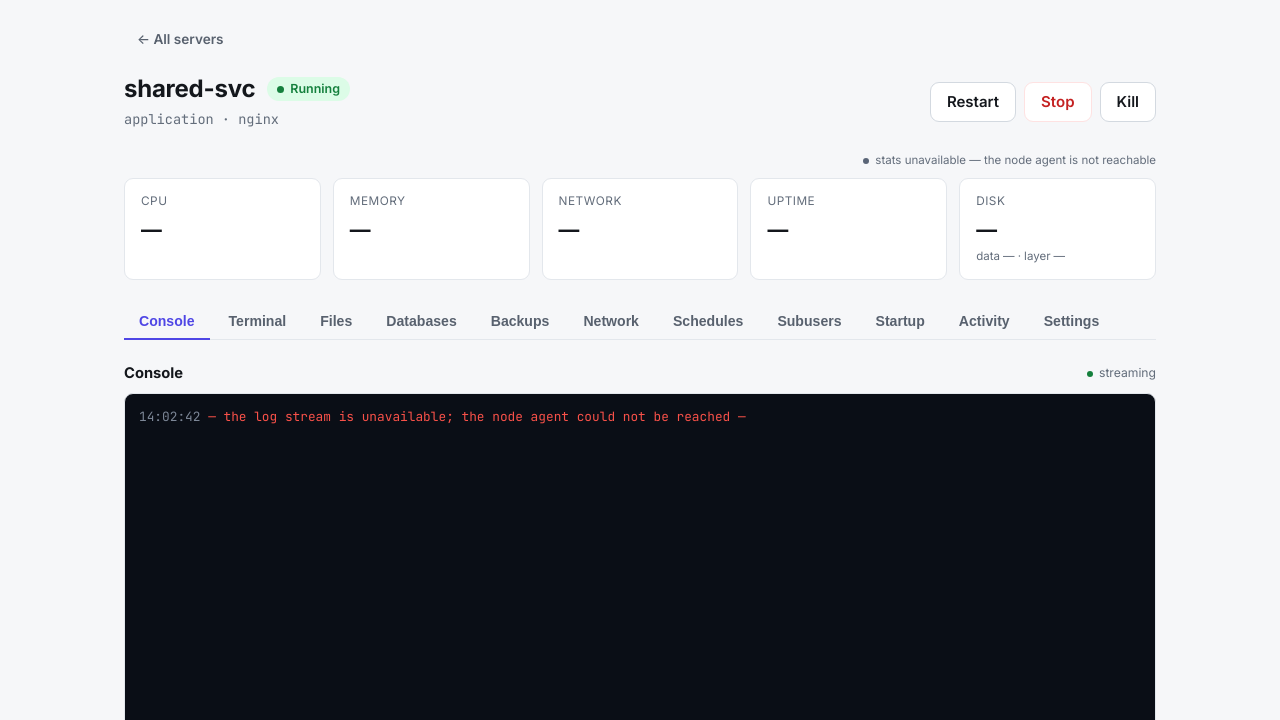
Test case: ServerDetail Network tab › says so plainly when no ports are published
Click the button "network" at point(611, 322), box [568,304,654,340]
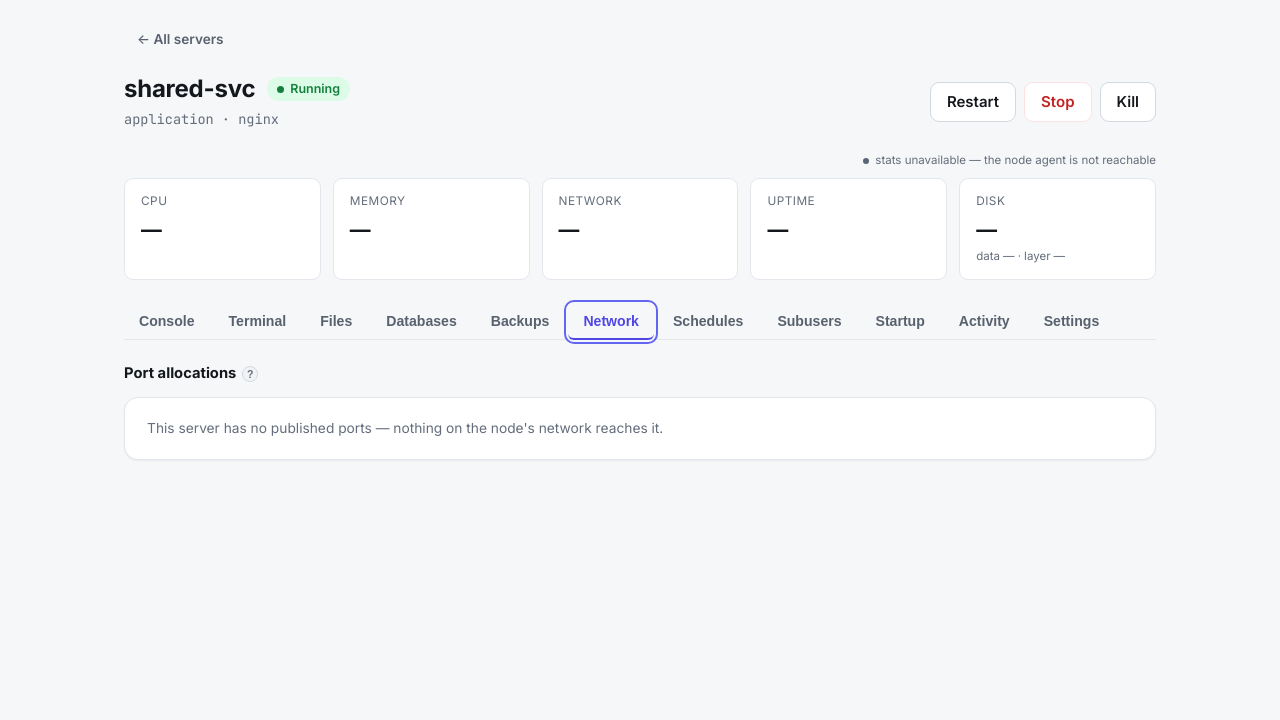
Result: the text "no published ports" is shown at [147,420,663,436]
